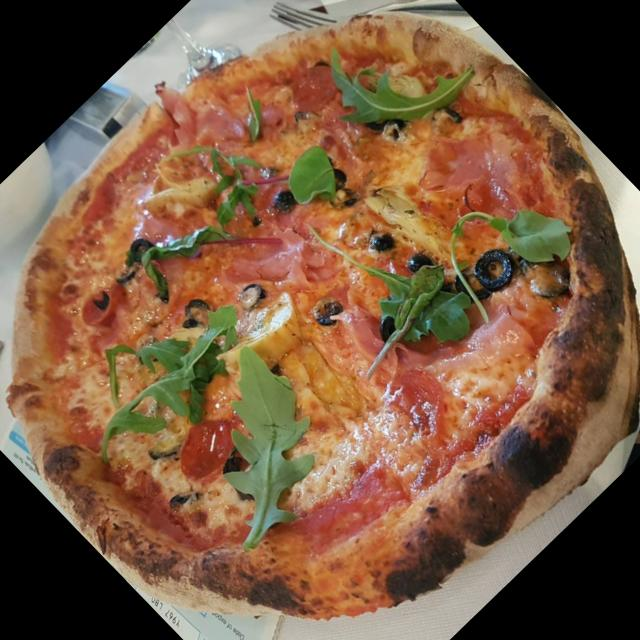black_olives: (463, 238, 526, 300), (170, 288, 220, 338), (362, 105, 411, 155), (154, 478, 198, 522), (306, 287, 348, 328), (229, 276, 268, 316), (264, 184, 304, 223), (424, 98, 461, 135), (370, 309, 406, 345), (127, 232, 162, 267), (402, 243, 436, 278), (364, 226, 398, 260), (109, 261, 140, 292), (90, 288, 117, 315)
pepperoni: (153, 395, 252, 493), (367, 354, 462, 450), (280, 51, 350, 122), (73, 274, 133, 334)
pizza: (6, 11, 640, 623)
